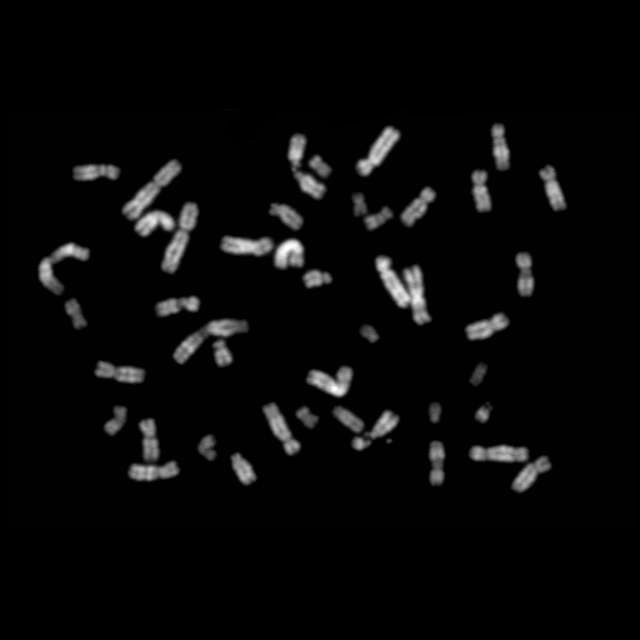chromosome: (172, 316, 250, 364), (122, 160, 180, 220), (162, 202, 200, 276), (286, 134, 326, 202), (38, 243, 90, 294), (355, 128, 401, 176), (262, 404, 300, 458), (352, 410, 400, 452), (402, 264, 432, 326), (376, 258, 410, 308), (512, 455, 552, 493), (306, 366, 352, 398), (402, 184, 436, 226), (465, 310, 509, 342), (539, 167, 567, 213), (94, 360, 146, 384), (135, 210, 175, 238), (468, 446, 530, 464), (67, 163, 119, 184), (155, 296, 199, 320), (488, 123, 510, 171), (129, 461, 179, 482), (274, 238, 306, 270), (138, 419, 162, 461), (426, 440, 446, 490), (471, 170, 494, 212), (269, 200, 301, 230), (221, 239, 273, 257), (231, 451, 257, 487), (515, 252, 535, 296), (60, 300, 87, 330), (334, 406, 364, 432), (364, 206, 396, 230), (103, 405, 127, 435), (212, 340, 233, 370), (310, 153, 332, 179), (297, 406, 318, 432), (302, 270, 331, 288), (197, 435, 217, 461), (426, 400, 444, 426), (350, 192, 366, 220), (472, 406, 493, 424), (359, 326, 378, 344)
